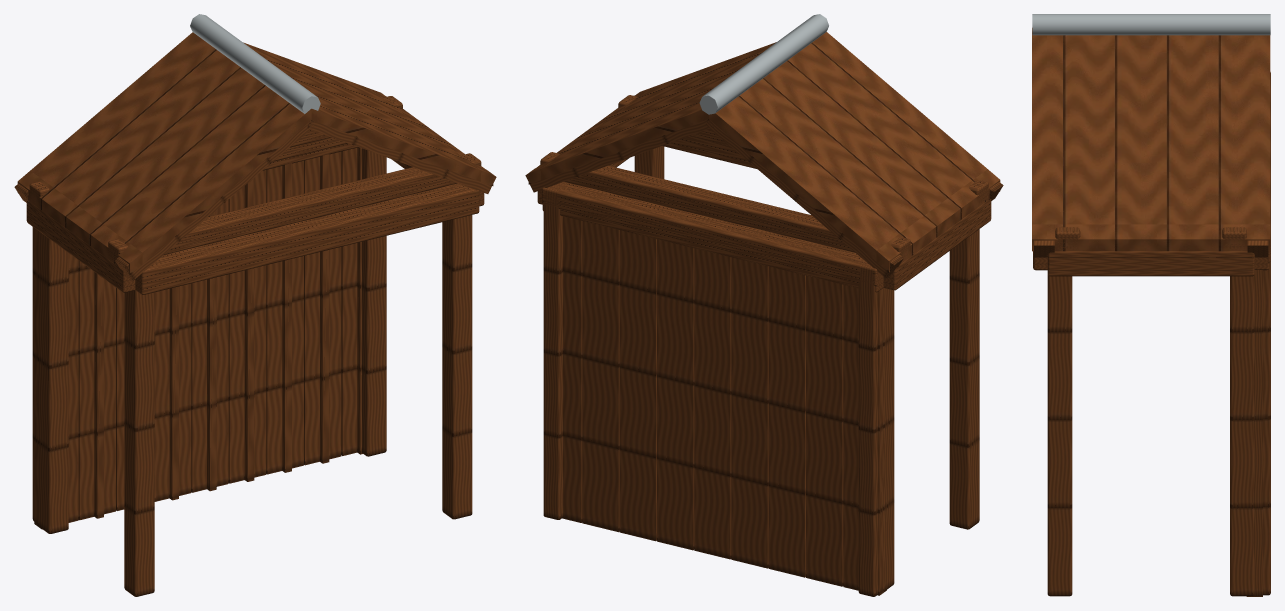
The model's file is rural-scavenging-settlements-market-notice-shelter-636d94cf__26528.glb.
3 views of the same model, side by side, from view 1: azimuth 30°, elevation 25°; view 2: azimuth 150°, elevation 25°; view 3: azimuth 270°, elevation 25° (orthographic). The views are drawn at different scales.
Parts seen in each view (by area): view 1: market-notice-shelter; view 2: market-notice-shelter; view 3: market-notice-shelter.
Boxes of the visible parts, left/top/right/bottom form: market-notice-shelter: left=14, top=14, right=496, bottom=596; market-notice-shelter: left=525, top=14, right=1003, bottom=596; market-notice-shelter: left=1032, top=14, right=1270, bottom=596.
Bounding box in the file's own units: 2.2 × 2.63 × 1.15.
2 materials, 1 textured.
